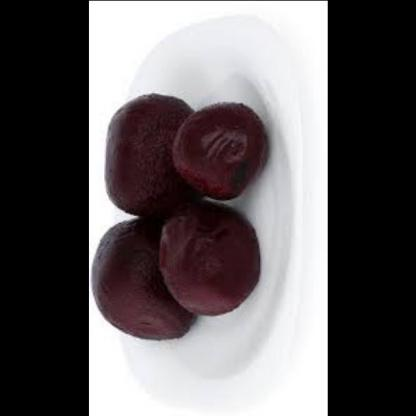beet: (88, 214, 205, 342), (154, 201, 266, 320), (100, 83, 200, 215), (171, 97, 268, 201)
